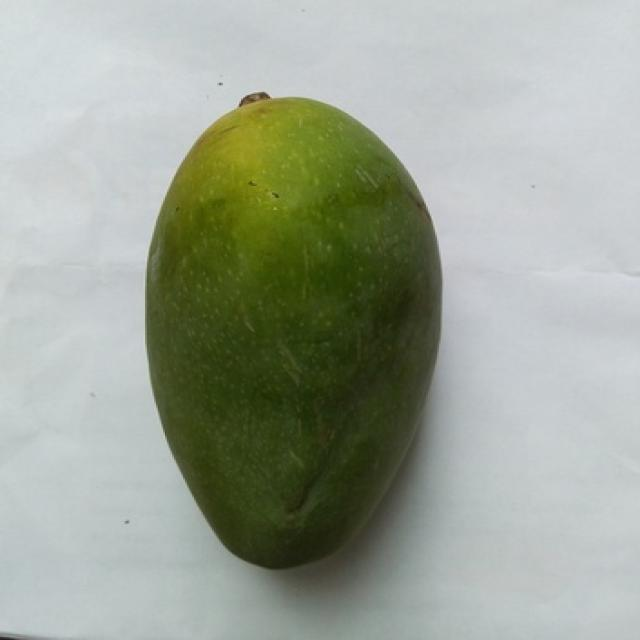Mango: (147, 94, 441, 569)
